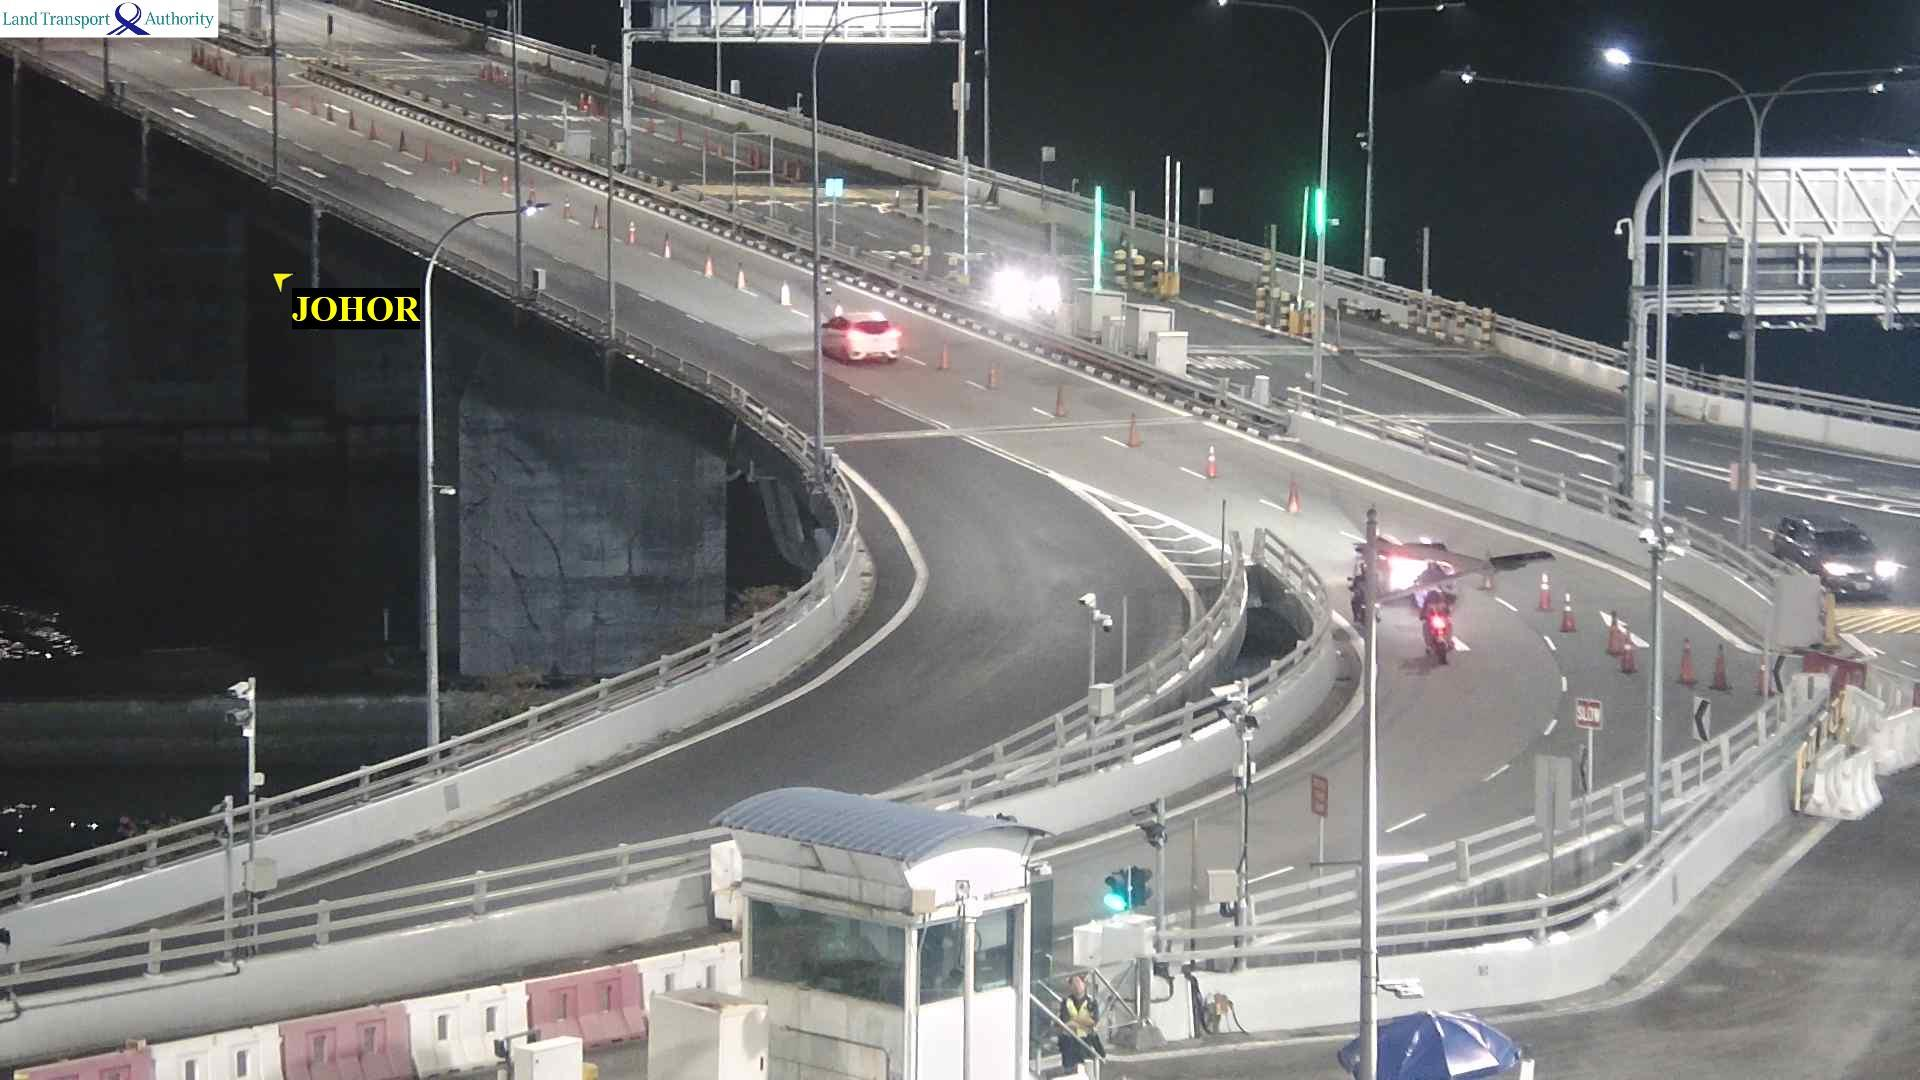vehicle-secondlink-singapore: (1779, 517, 1902, 605), (988, 256, 1063, 320), (822, 309, 905, 363), (1423, 588, 1451, 665), (1341, 560, 1366, 625), (1420, 562, 1449, 612)
